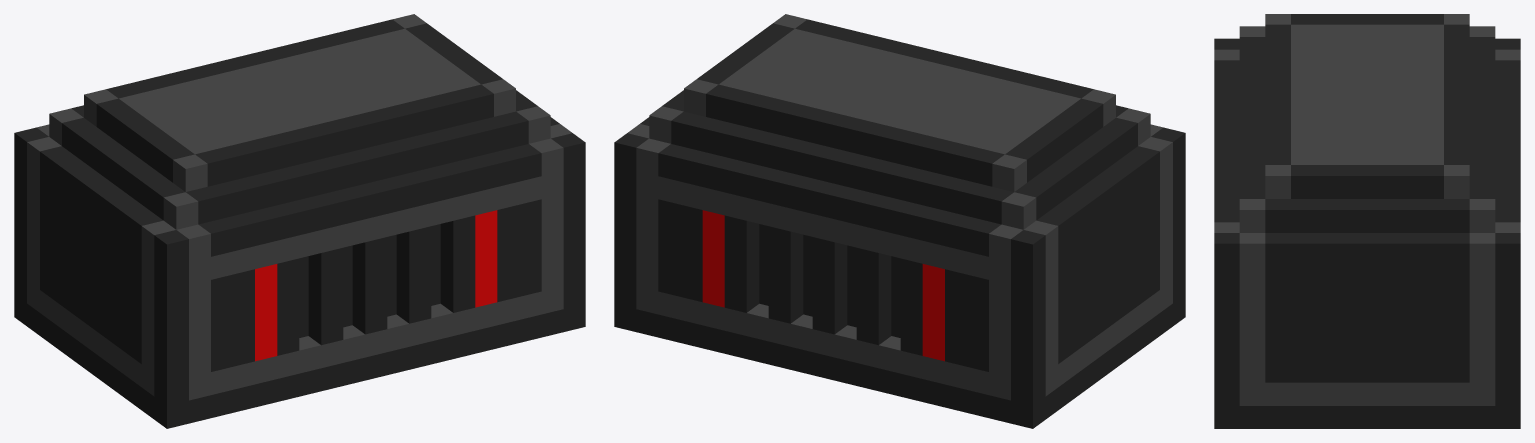
File: crate.glb
3 renders of one model, left to right at view 1: azimuth 30°, elevation 25°; view 2: azimuth 150°, elevation 25°; view 3: azimuth 270°, elevation 25°, orthographic.
Visible parts, largest first — view 1: Untitled; view 2: Untitled; view 3: Untitled.
Part boxes in pixels (<box>): Untitled: <box>14,14,585,428</box>; Untitled: <box>614,14,1185,428</box>; Untitled: <box>1214,14,1520,428</box>.
Bounding box in the file's own units: 0.95 × 0.5 × 0.6.
1 material, 1 textured.
